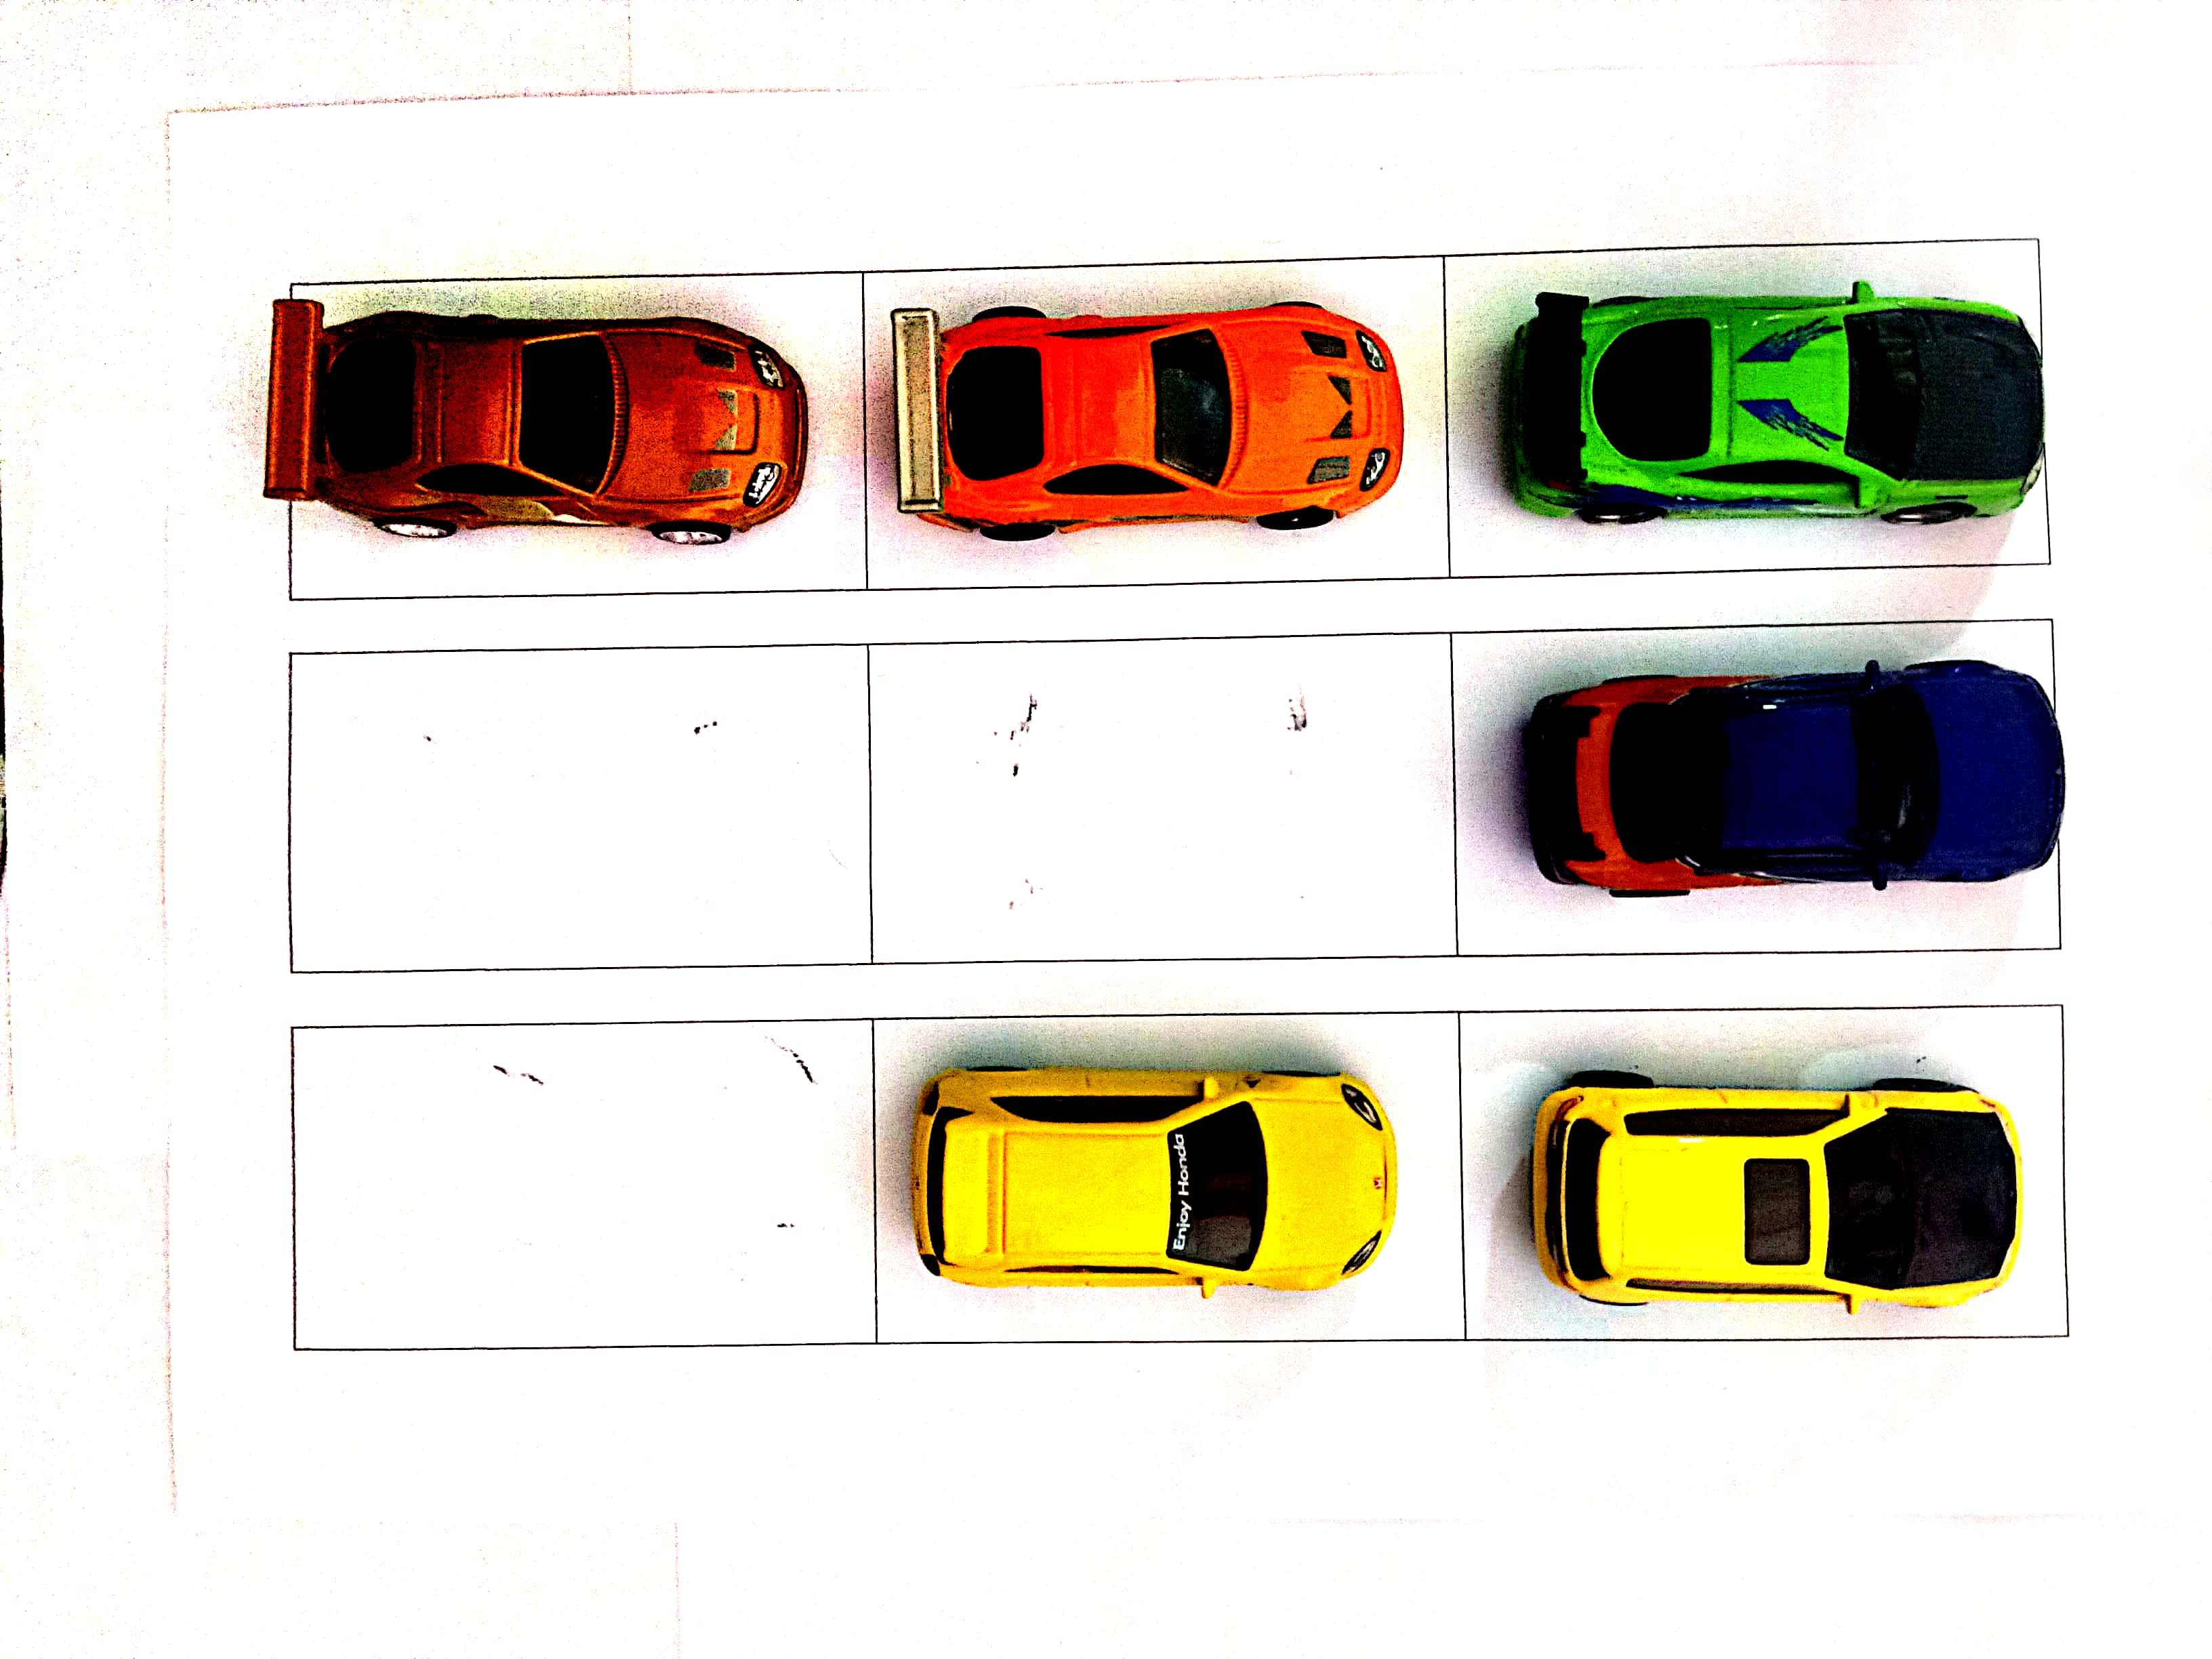Busy: (874, 1009, 1458, 1349), (1458, 619, 2055, 950), (1470, 1002, 2055, 1331), (1449, 249, 2045, 568), (287, 275, 866, 598), (871, 263, 1440, 584)
Free: (296, 1019, 871, 1349), (296, 645, 869, 967), (871, 636, 1446, 955)
